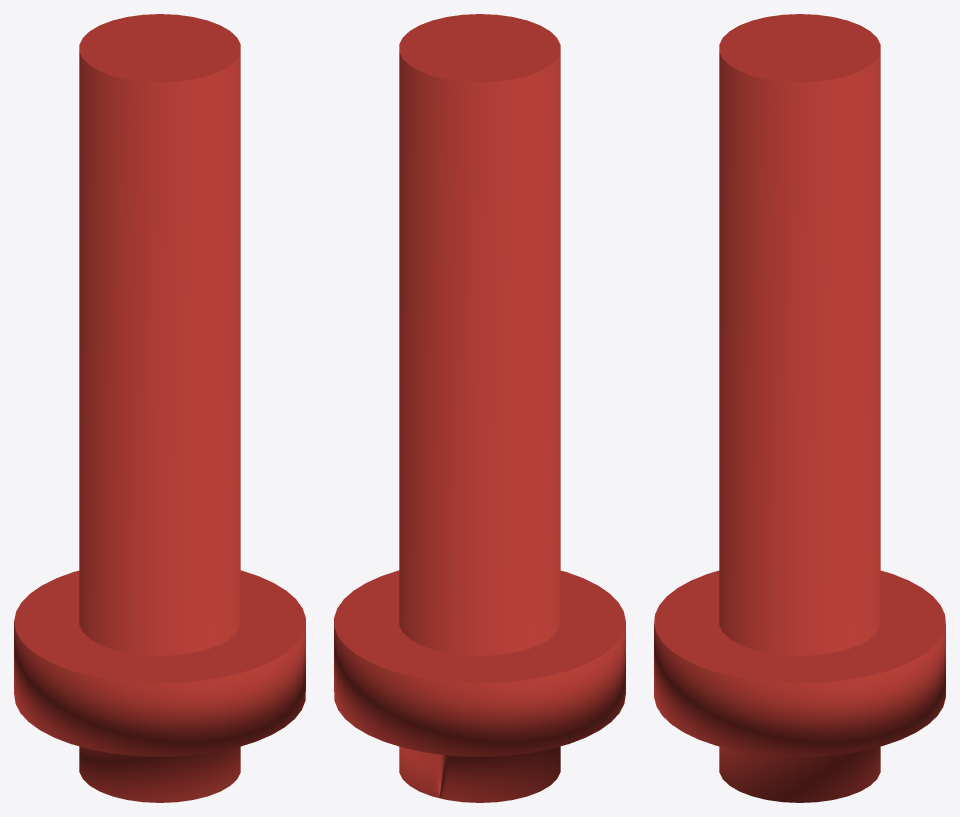
File: NChannel_Red.dae
3 renders of one model, left to right at view 1: azimuth 30°, elevation 25°; view 2: azimuth 150°, elevation 25°; view 3: azimuth 270°, elevation 25°, orthographic.
Visible parts, largest first — view 1: NChannel_Green; view 2: NChannel_Green; view 3: NChannel_Green.
Part boxes in pixels (left/top/right/bottom): NChannel_Green: left=14, top=14, right=305, bottom=802; NChannel_Green: left=334, top=14, right=625, bottom=802; NChannel_Green: left=654, top=14, right=945, bottom=802.
Size of the model in its own units: 17.97 by 17.99 by 49.
